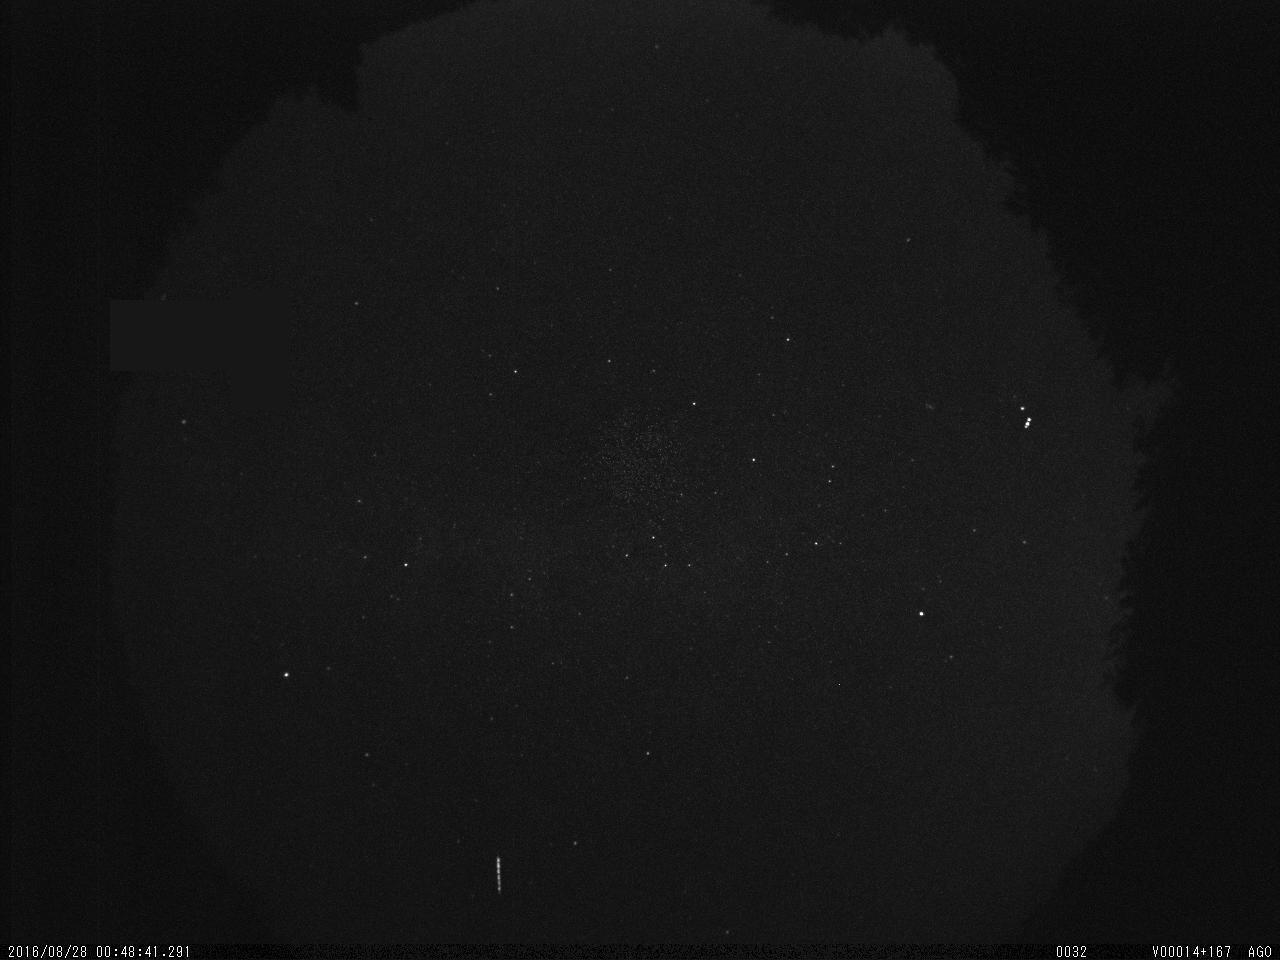Meteor: (493, 854, 505, 894)
